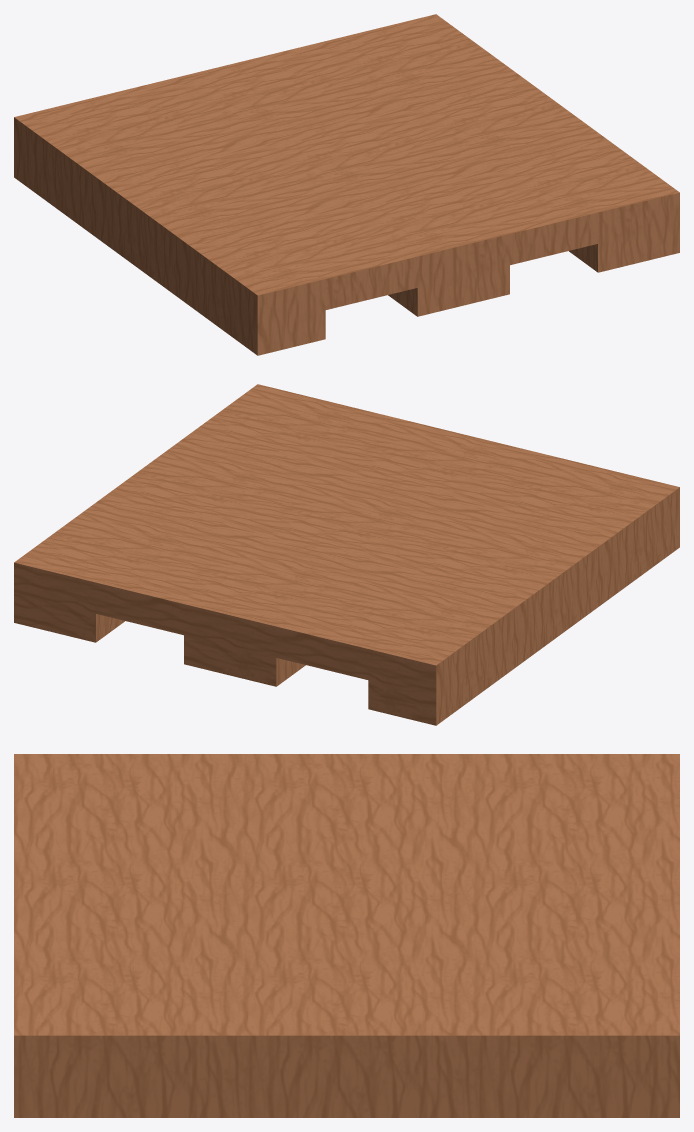
The model's file is BasicFoundation.fbx.
3 views of the same model, one above another, from view 1: azimuth 30°, elevation 25°; view 2: azimuth 150°, elevation 25°; view 3: azimuth 270°, elevation 25° (orthographic). The views are drawn at different scales.
Parts seen in each view (by area): view 1: BasicFoundation; view 2: BasicFoundation; view 3: BasicFoundation.
Part boxes in pixels (x1=…): BasicFoundation: x1=14, y1=14, x2=679, y2=355; BasicFoundation: x1=14, y1=384, x2=679, y2=725; BasicFoundation: x1=14, y1=754, x2=679, y2=1117.
Size of the model in its own units: 330 by 45.03 by 330.
